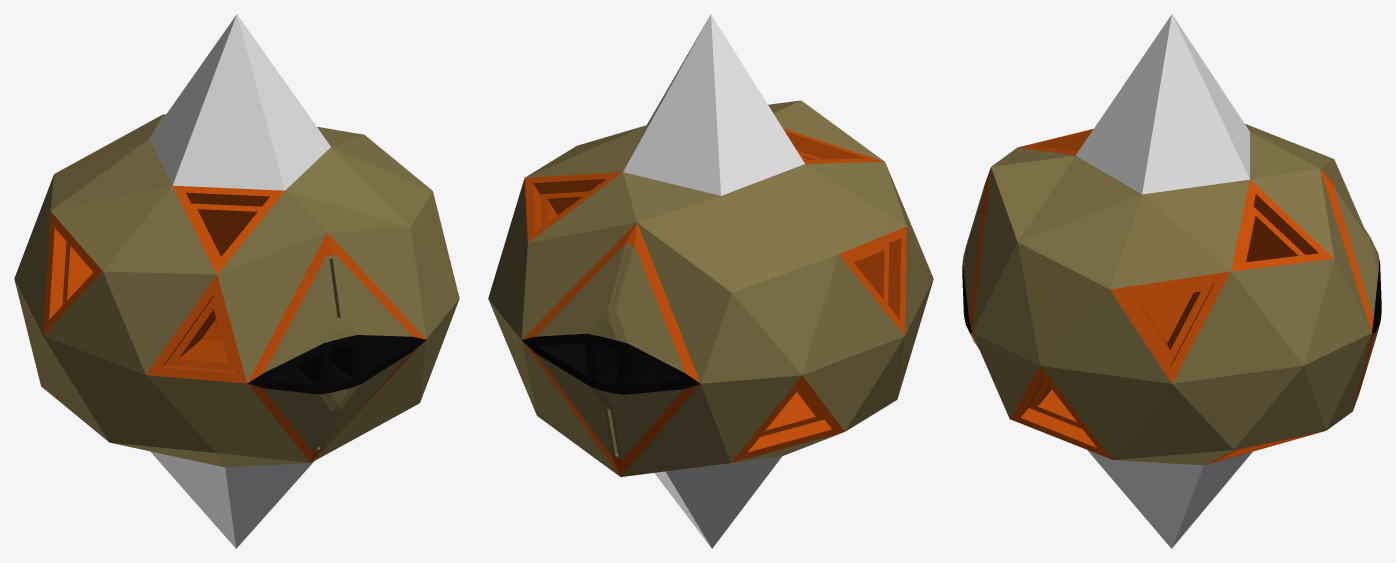
File: MiniBossJoao 1.fbx
3 views of the same model, side by side, from view 1: azimuth 30°, elevation 25°; view 2: azimuth 150°, elevation 25°; view 3: azimuth 270°, elevation 25° (orthographic).
Parts seen in each view (by area): view 1: Icosphere; view 2: Icosphere; view 3: Icosphere.
Boxes of the visible parts, box(x1,y1,x2,y2) form: Icosphere: box(14, 14, 459, 548); Icosphere: box(488, 14, 933, 548); Icosphere: box(962, 14, 1381, 548).
Bounding box in the file's own units: 200 × 187 × 263.
